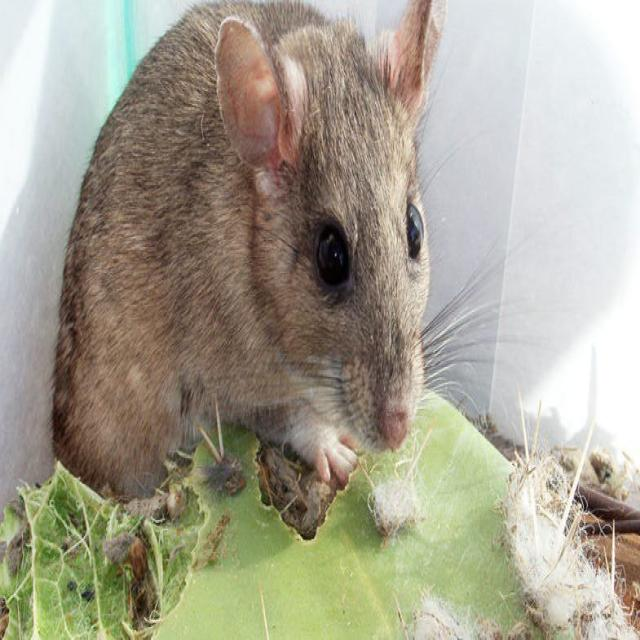rat: (52, 0, 488, 537)
